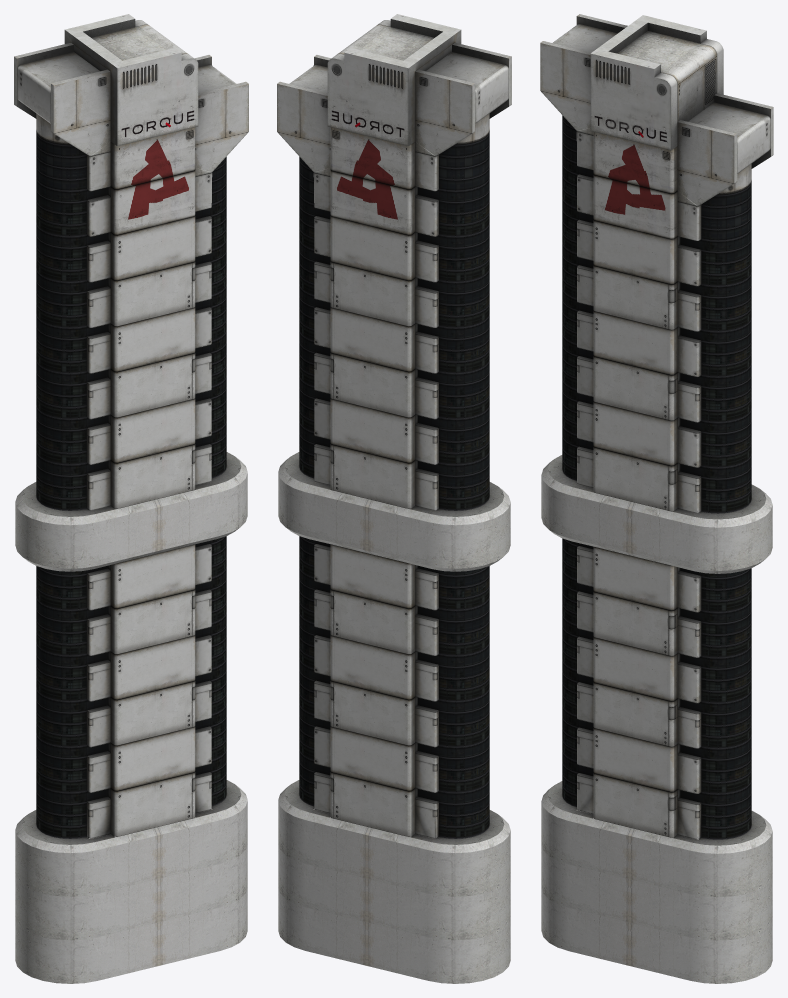
File: building_01.DAE
3 views of the same model, side by side, from view 1: azimuth 30°, elevation 25°; view 2: azimuth 150°, elevation 25°; view 3: azimuth 330°, elevation 25° (orthographic).
Bounding box in the file's own units: 3514 × 1538 × 13987.
